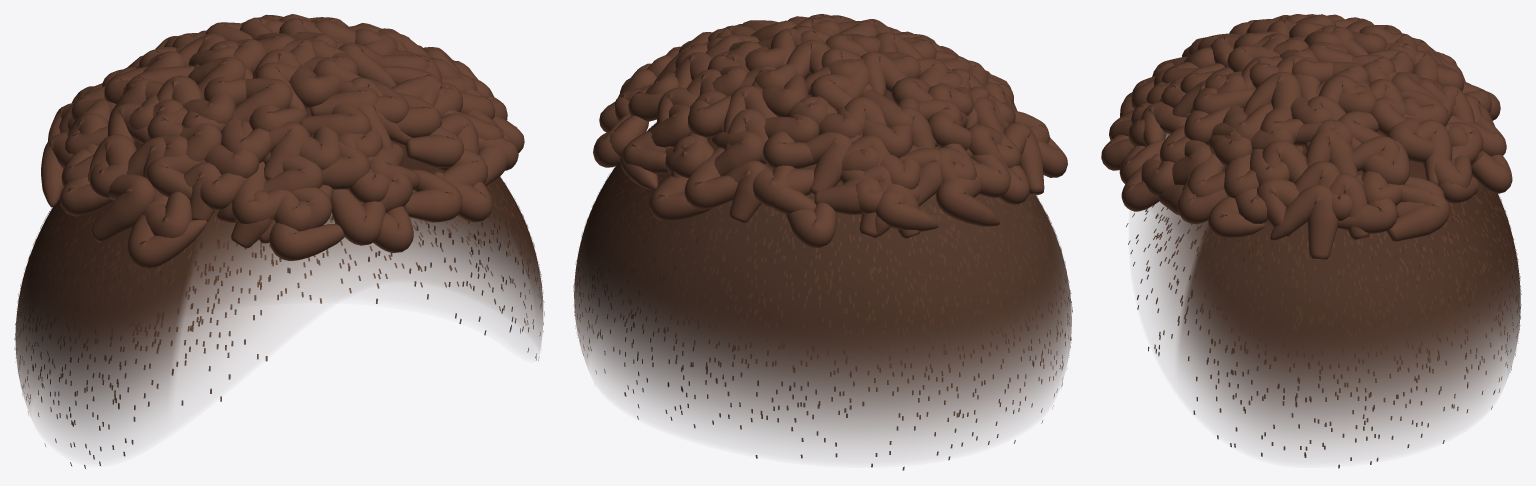
File: Masculine-curly-top-bandana-hair.glb
3 views of the same model, side by side, from view 1: azimuth 30°, elevation 25°; view 2: azimuth 150°, elevation 25°; view 3: azimuth 270°, elevation 25° (orthographic). The views are drawn at different scales.
Visible parts, largest first — view 1: 226 hair / Hair / chestnut226, 226 hair / Hair / neutral coverage235, 226 hair / Hair / cut grain235; view 2: 226 hair / Hair / neutral coverage235, 226 hair / Hair / chestnut226, 226 hair / Hair / cut grain235; view 3: 226 hair / Hair / chestnut226, 226 hair / Hair / neutral coverage235, 226 hair / Hair / cut grain235.
Boxes of the visible parts, box(x1,y1,x2,y2) form: 226 hair / Hair / chestnut226: box(41, 14, 524, 268); 226 hair / Hair / neutral coverage235: box(15, 108, 543, 447); 226 hair / Hair / cut grain235: box(14, 170, 544, 468); 226 hair / Hair / neutral coverage235: box(574, 74, 1071, 451); 226 hair / Hair / chestnut226: box(593, 14, 1067, 247); 226 hair / Hair / cut grain235: box(573, 122, 1072, 470); 226 hair / Hair / chestnut226: box(1101, 14, 1512, 259); 226 hair / Hair / neutral coverage235: box(1142, 131, 1520, 451); 226 hair / Hair / cut grain235: box(1126, 134, 1521, 468).
Bounding box in the file's own units: 0.9686 × 0.7152 × 0.819.
